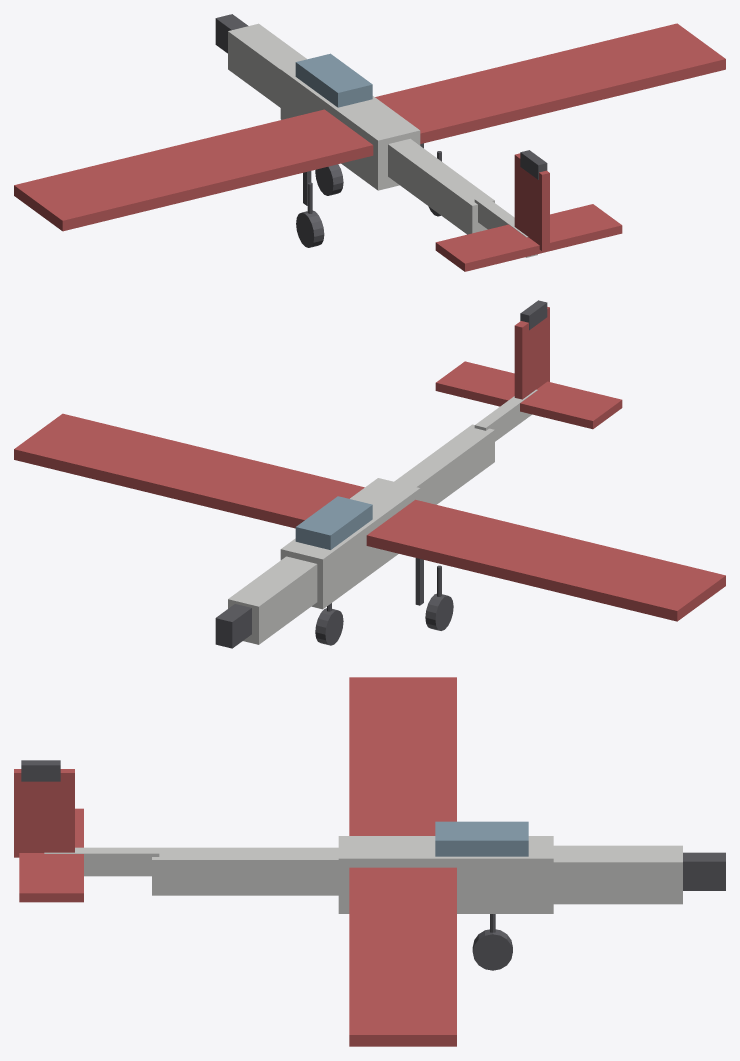
File: trainer.glb
The picture shows the model from 3 angles, top to bottom: view 1: azimuth 30°, elevation 25°; view 2: azimuth 150°, elevation 25°; view 3: azimuth 270°, elevation 25°; orthographic projection. The views are drawn at different scales.
Parts seen in each view (by area): view 1: geometry_0; view 2: geometry_0; view 3: geometry_0.
Part boxes in pixels (left/top/right/bottom): geometry_0: left=14, top=14, right=725, bottom=271; geometry_0: left=14, top=300, right=725, bottom=648; geometry_0: left=14, top=677, right=725, bottom=1046.
Bounding box in the file's own units: 11.8 × 3.21 × 9.93.
